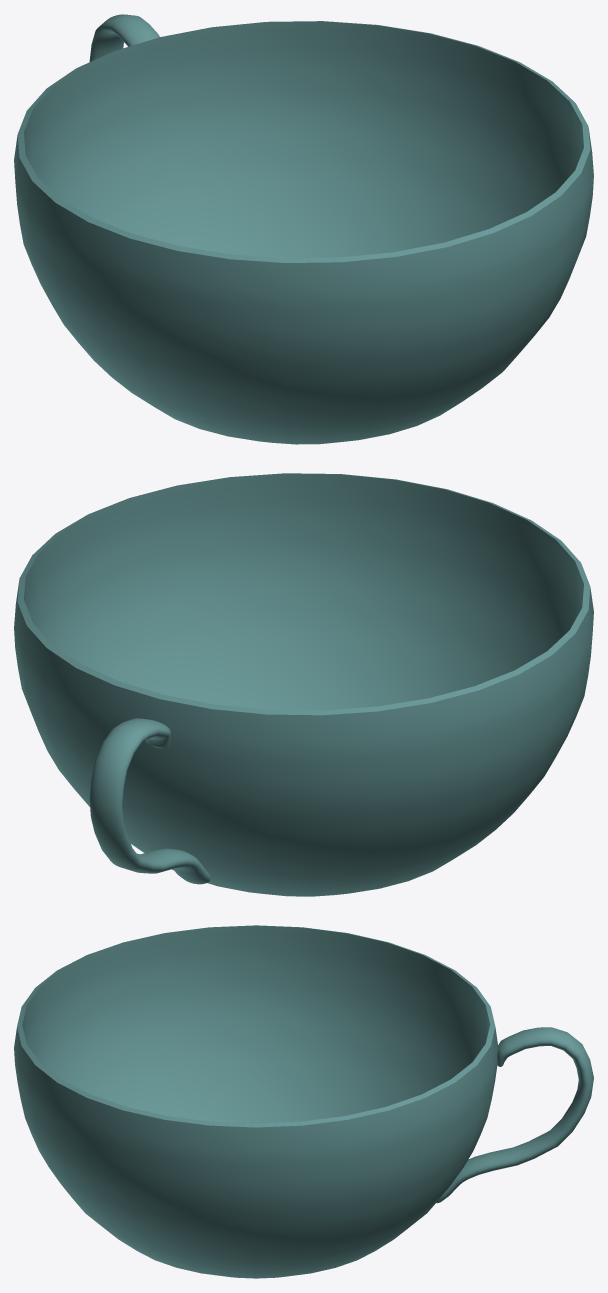
The model's file is SM_Cup.fbx.
The picture shows the model from 3 angles, top to bottom: view 1: azimuth 30°, elevation 25°; view 2: azimuth 150°, elevation 25°; view 3: azimuth 270°, elevation 25°; orthographic projection. The views are drawn at different scales.
Parts seen in each view (by area): view 1: Cup; view 2: Cup; view 3: Cup.
Boxes of the visible parts, <box> form: Cup: <box>14,14,593,444</box>; Cup: <box>14,473,593,896</box>; Cup: <box>14,925,593,1278</box>.
Bounding box in the file's own units: 321 × 154 × 384.
